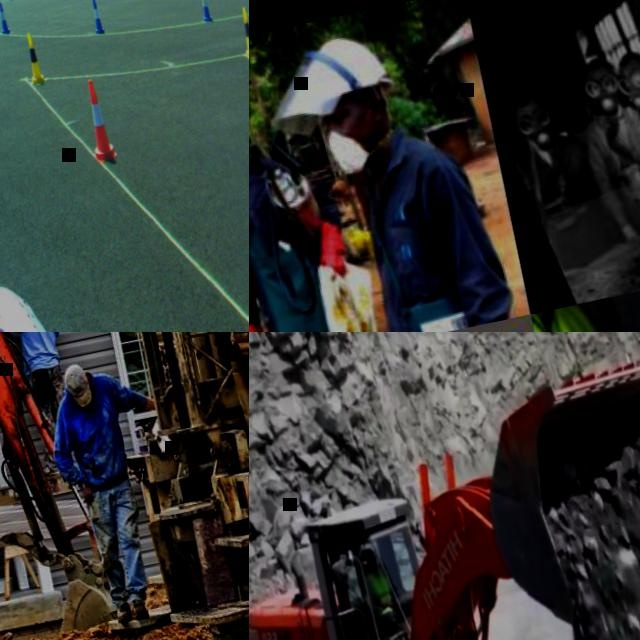Hardhat: (363, 547, 376, 560)
Mask: (322, 122, 376, 180), (527, 118, 557, 150), (592, 89, 622, 116), (626, 83, 640, 112)
NO-Hardhat: (60, 362, 93, 406), (581, 55, 616, 77), (509, 90, 540, 111), (617, 48, 640, 70)
NO-Mask: (369, 562, 378, 574)
NO-Safety Vest: (348, 115, 489, 332), (249, 146, 336, 332), (512, 130, 611, 270), (63, 372, 132, 487), (587, 101, 640, 217), (14, 332, 60, 369)
Person: (301, 11, 519, 332), (34, 348, 200, 626), (249, 56, 374, 332), (501, 83, 619, 281), (0, 332, 89, 474), (358, 544, 402, 632)
Safety Cone: (78, 77, 118, 163), (22, 32, 46, 84), (235, 5, 249, 59), (88, 0, 104, 33), (197, 0, 213, 23), (0, 1, 10, 34)
Safety Vest: (367, 569, 394, 611)
machinery: (249, 338, 640, 640), (0, 332, 139, 640), (483, 467, 640, 640)
